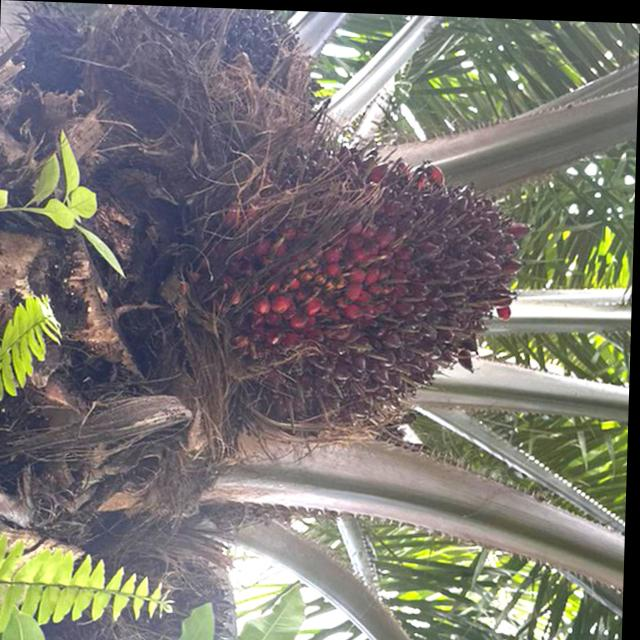ripe: (183, 98, 557, 472)
